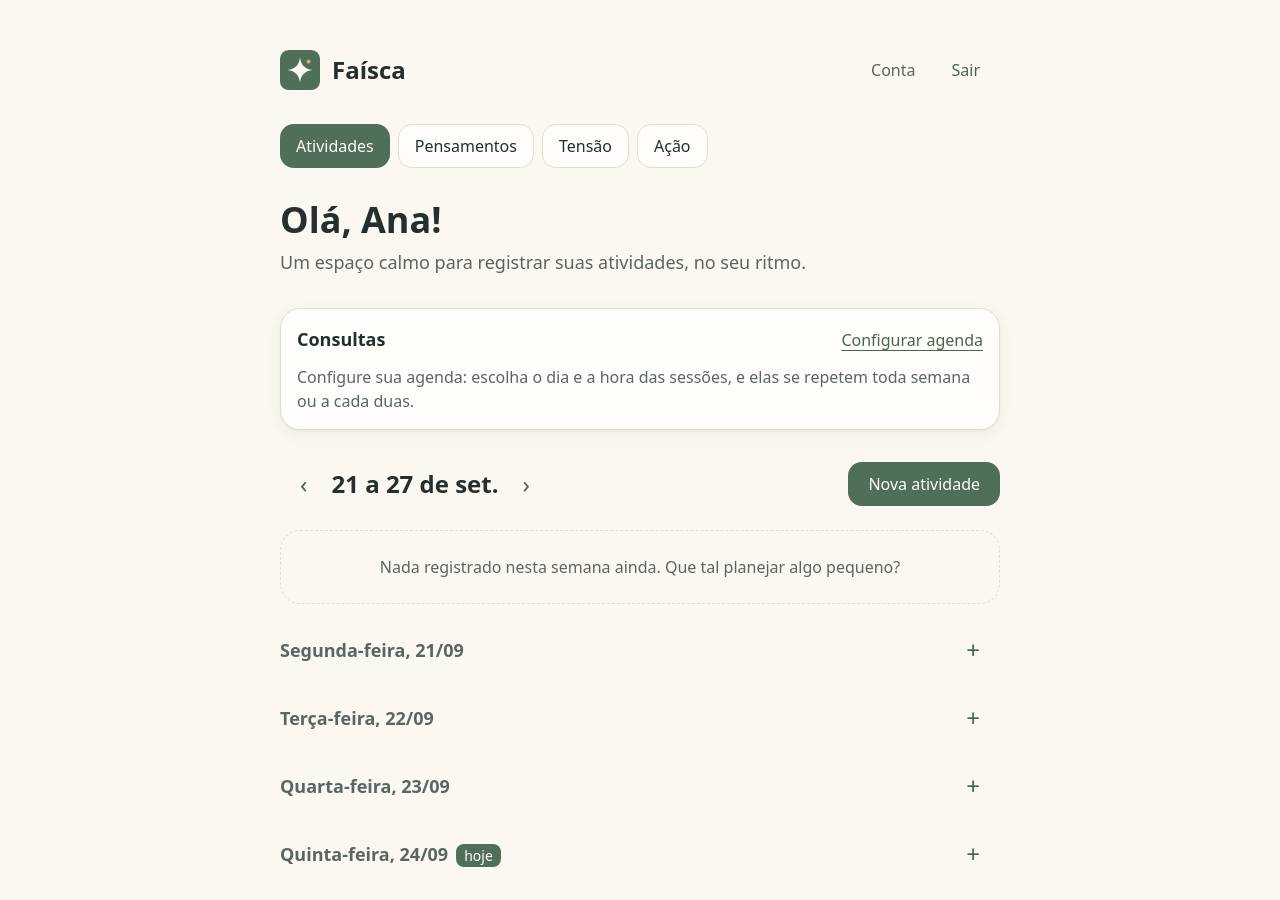
Test case: RecordsPage: nova atividade › "Já fiz" em dia futuro é recusado antes de enviar
Click the button "Nova atividade": coordinates (924, 484) [848,462,1000,506]
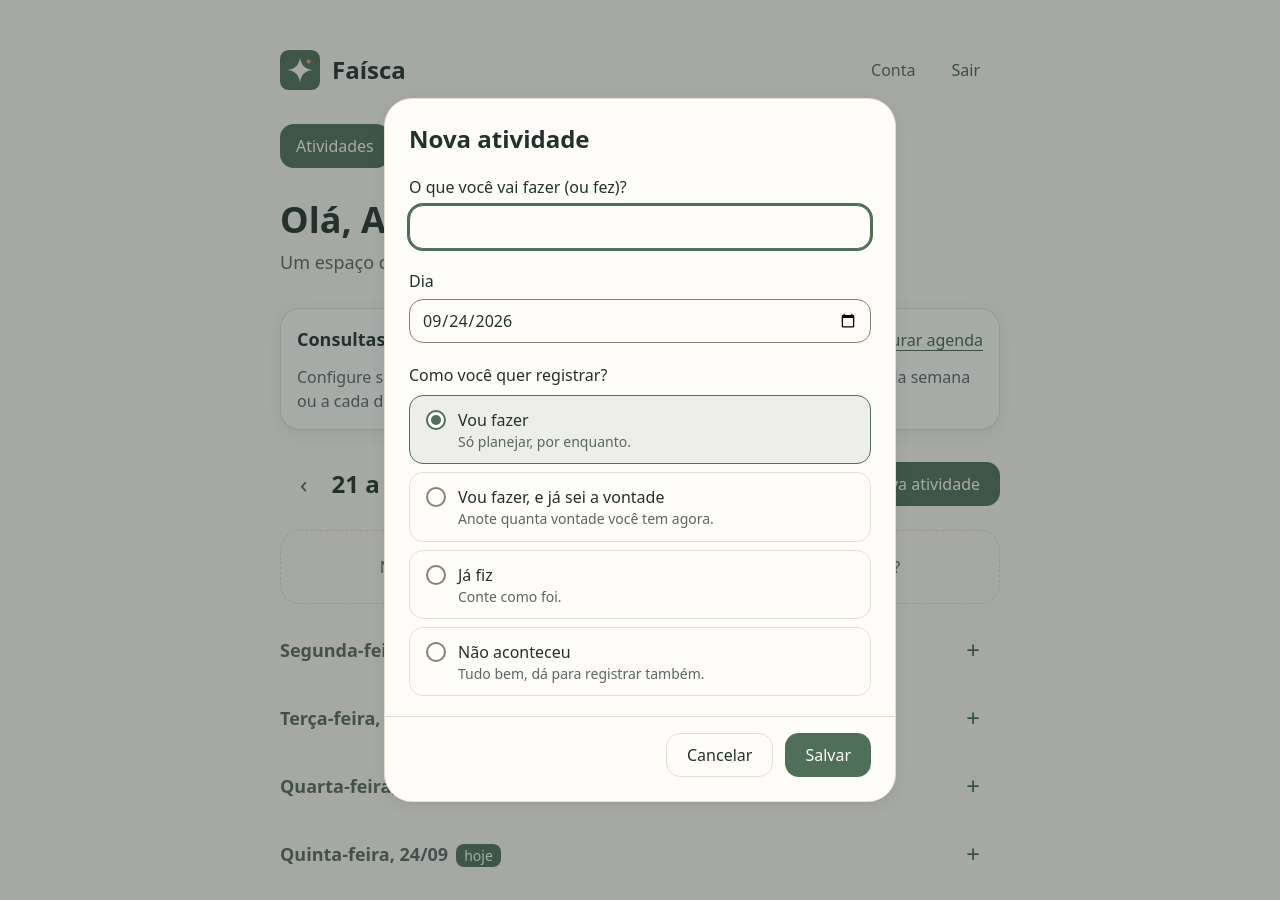
In the field labelled "O que você vai fazer (ou fez)?": coordinates (640, 227) [409,205,871,249], type "Caminhada"
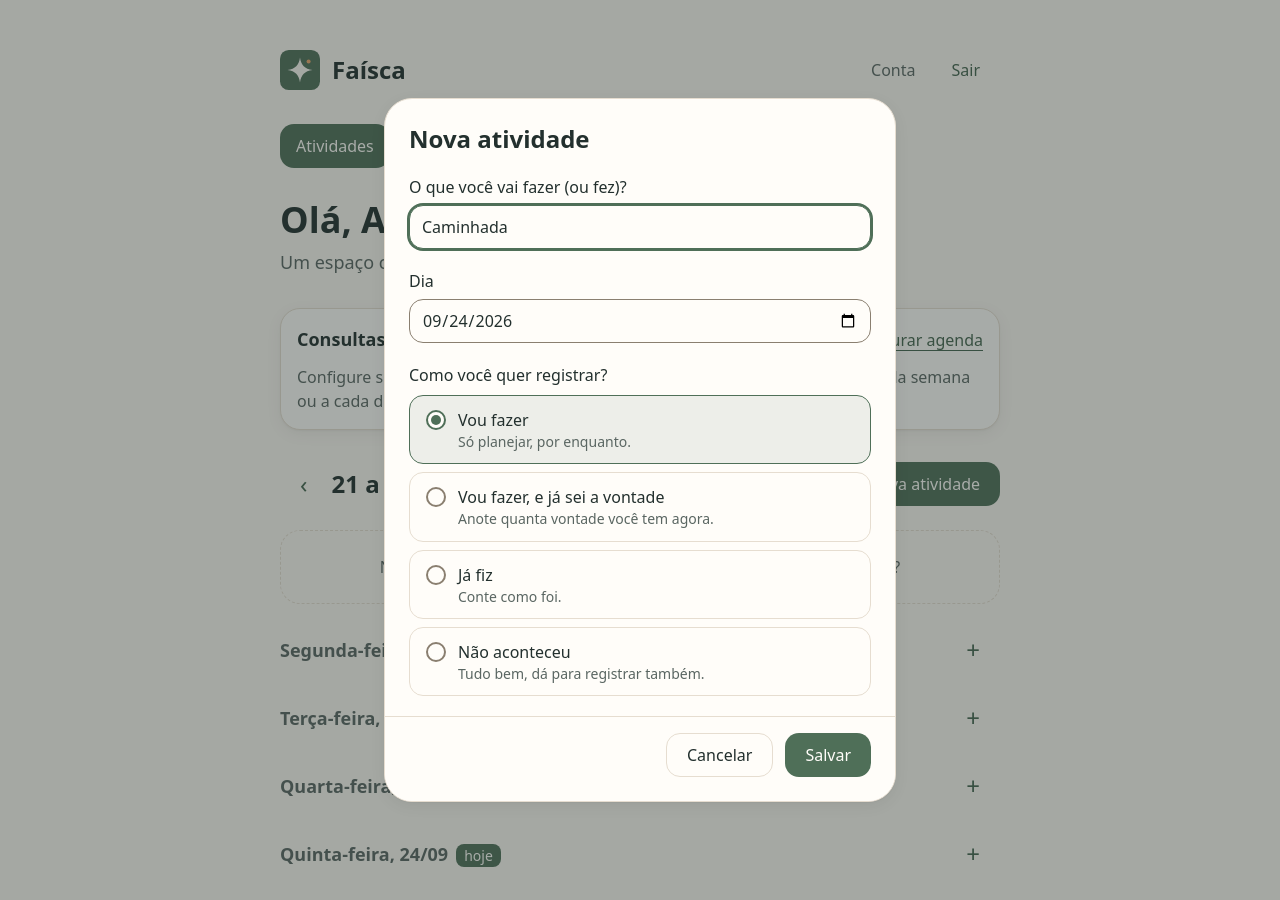
In the date field labelled "Dia": coordinates (640, 321) [409,299,871,343], type "2026-09-25"
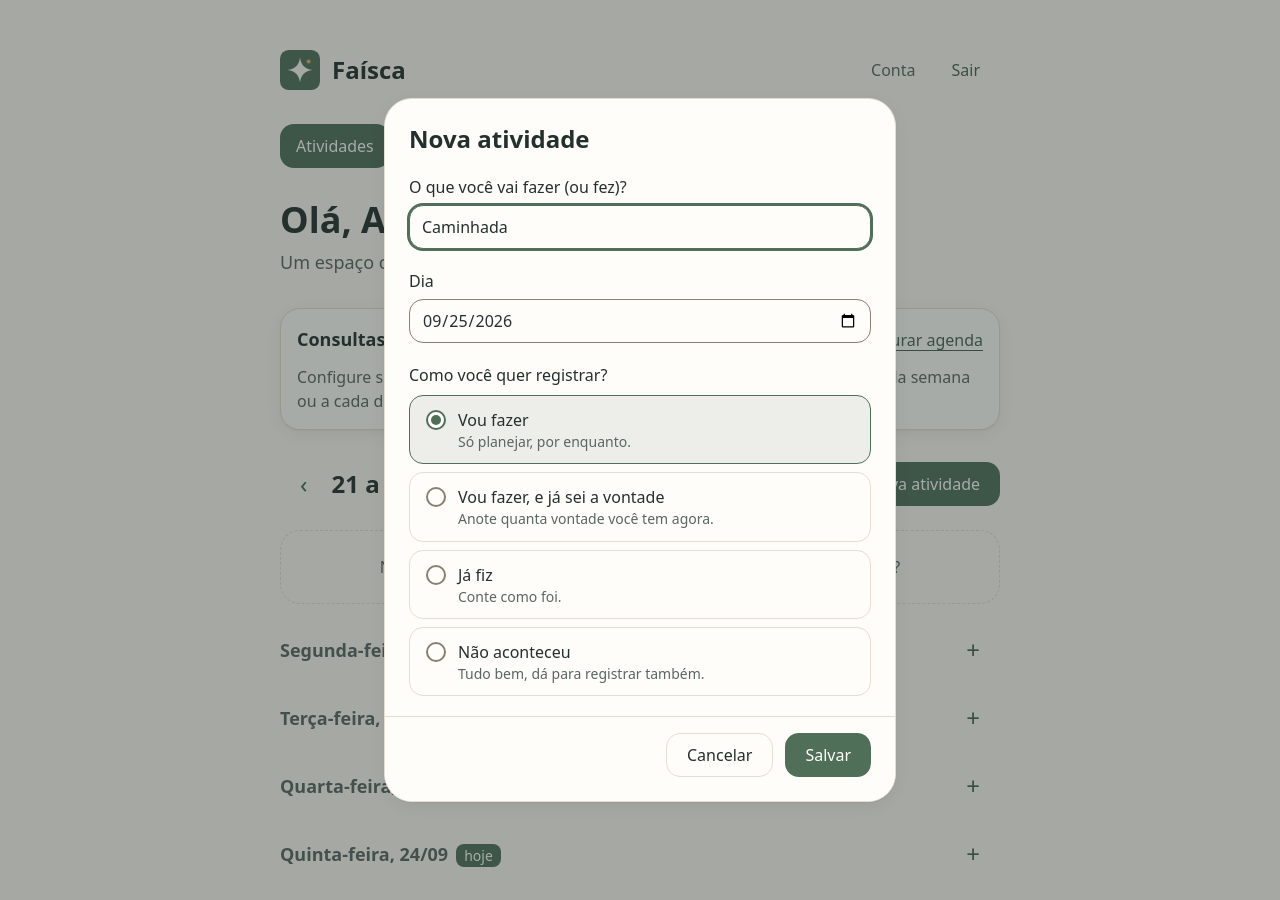
Click the radio button labelled "Já fiz Conte como foi.": coordinates (436, 574) [426,564,446,584]
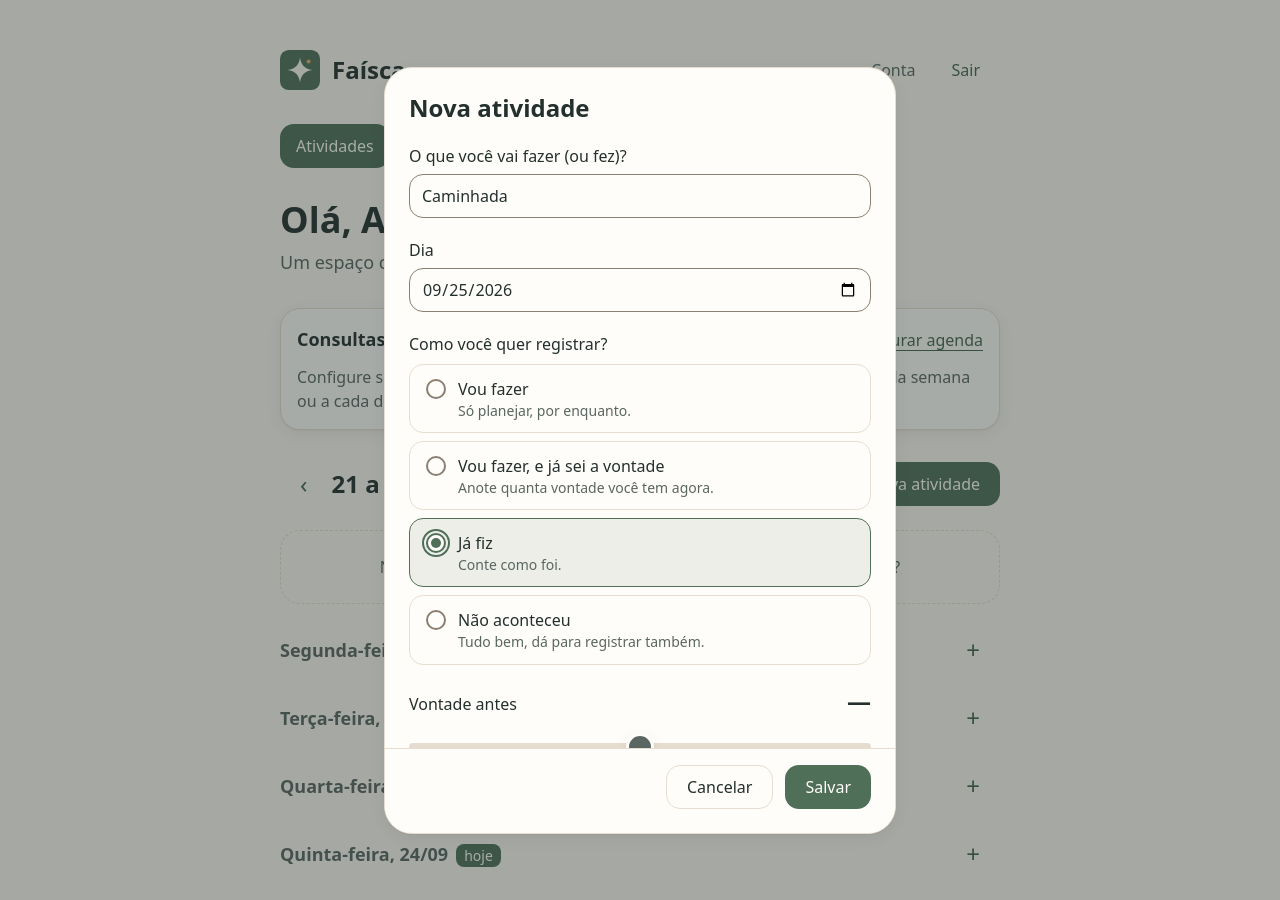
Click the button "Salvar": coordinates (828, 786) [785,764,871,808]
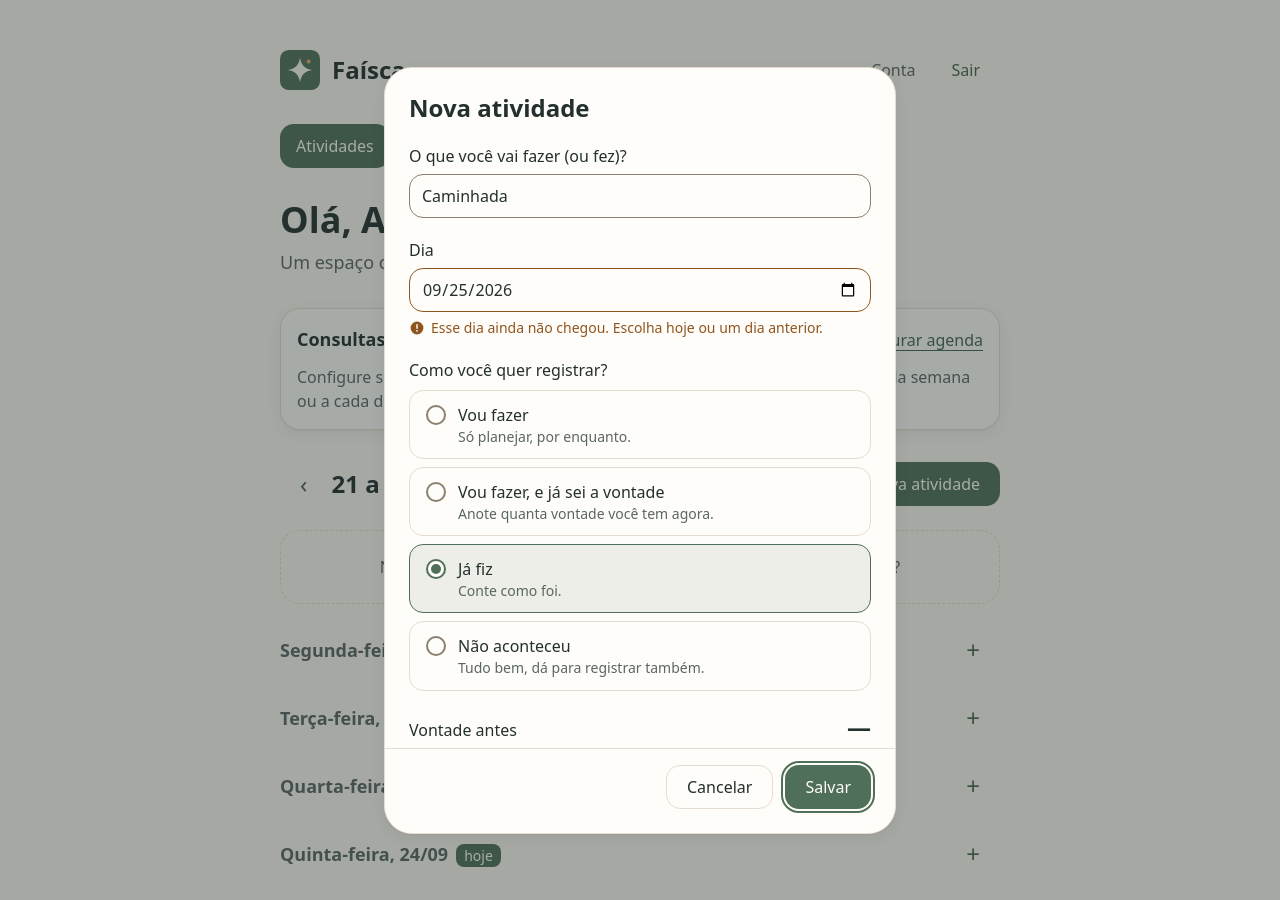
Check: the text "Esse dia ainda não chegou. Escolha hoje ou um dia anterior." is shown, box [431,318,823,338]
